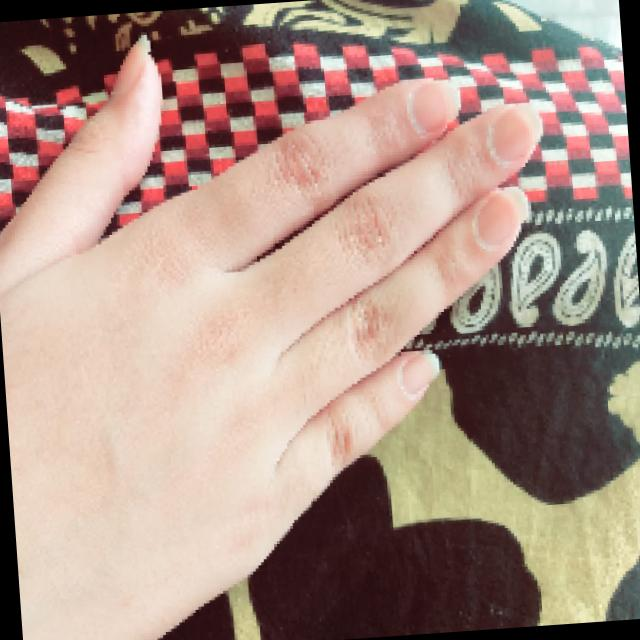Nail: (473, 186, 528, 249), (492, 104, 541, 160), (410, 81, 459, 132), (111, 34, 148, 89), (398, 350, 439, 394)
